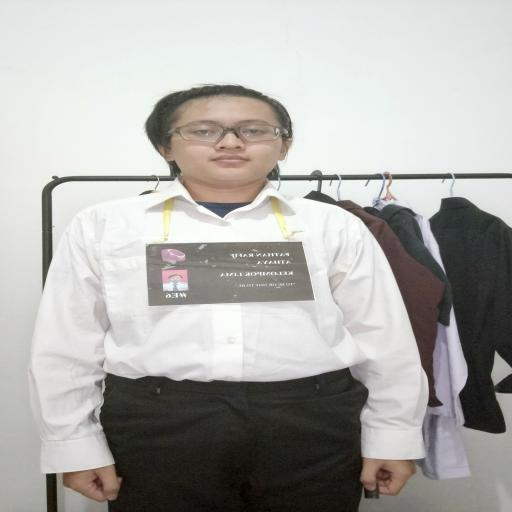celana_benar: (91, 374, 382, 512)
kemeja_benar: (40, 206, 418, 383)
nametag_ada: (109, 204, 345, 312)
